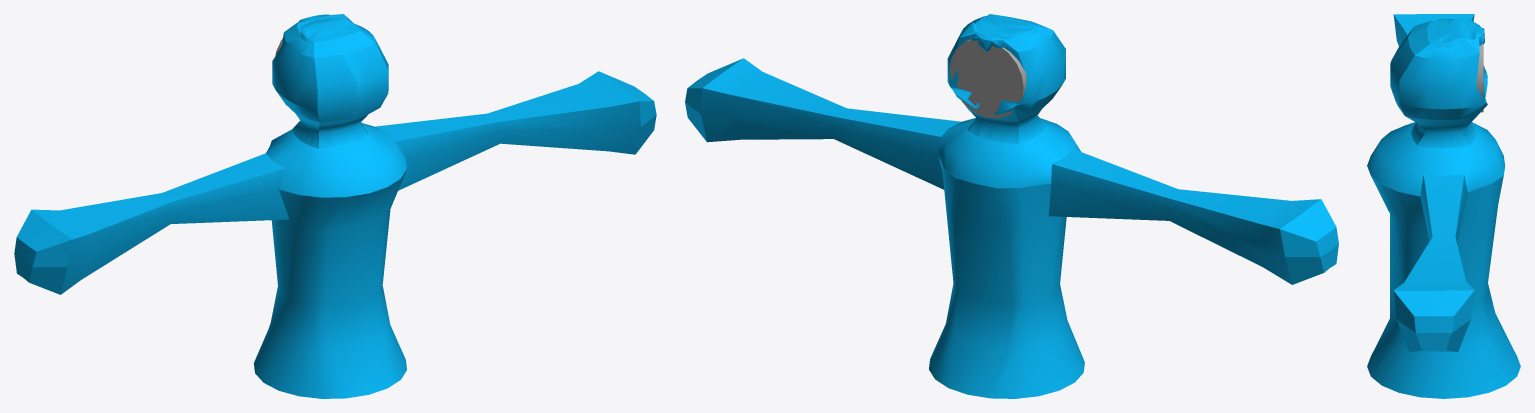
The model's file is waterBoss.fbx.
The picture shows the model from 3 angles, left to right: view 1: azimuth 30°, elevation 25°; view 2: azimuth 150°, elevation 25°; view 3: azimuth 270°, elevation 25°; orthographic projection. The views are drawn at different scales.
Parts seen in each view (by area): view 1: pCylinder8; view 2: pCylinder8; view 3: pCylinder8.
Part boxes in pixels (bbox=[...]): pCylinder8: bbox=[14, 14, 656, 398]; pCylinder8: bbox=[685, 14, 1338, 398]; pCylinder8: bbox=[1367, 14, 1520, 398].
Size of the model in its own units: 6.55 by 3.39 by 1.4.
